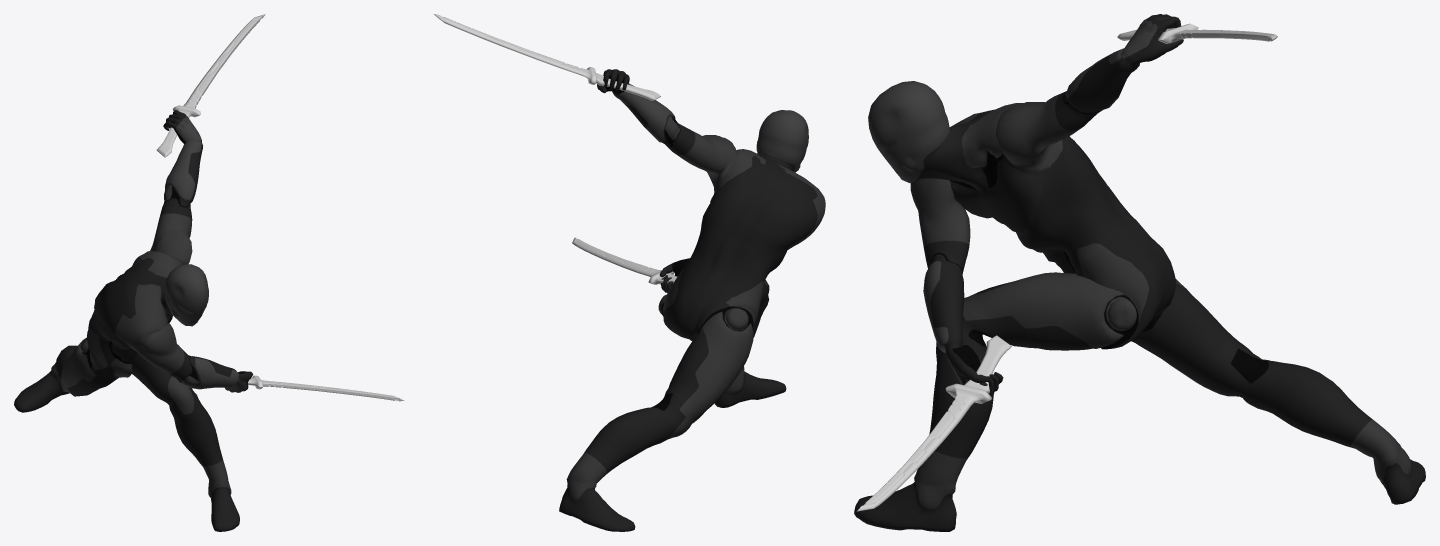
3 views of the same model, side by side, from view 1: azimuth 30°, elevation 25°; view 2: azimuth 150°, elevation 25°; view 3: azimuth 270°, elevation 25° (orthographic). The views are drawn at different scales.
Visible parts, largest first — view 1: Cyborg_Ninja_Killer, Sword_l, Sword_l001; view 2: Cyborg_Ninja_Killer, Sword_l, Sword_l001; view 3: Cyborg_Ninja_Killer, Sword_l001, Sword_l.
Part boxes in pixels (box(x1,y1,x2,y2)): Cyborg_Ninja_Killer: box(14, 110, 253, 531); Sword_l: box(156, 14, 265, 157); Sword_l001: box(248, 375, 404, 401); Cyborg_Ninja_Killer: box(559, 69, 825, 531); Sword_l: box(434, 14, 660, 100); Sword_l001: box(572, 237, 677, 284); Cyborg_Ninja_Killer: box(854, 14, 1425, 531); Sword_l001: box(856, 335, 1011, 511); Sword_l: box(1117, 23, 1277, 43).
Size of the model in its own units: 121 by 175 by 150.
